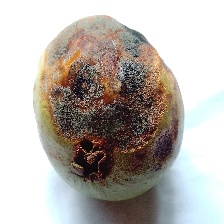guava: (28, 12, 197, 183)
